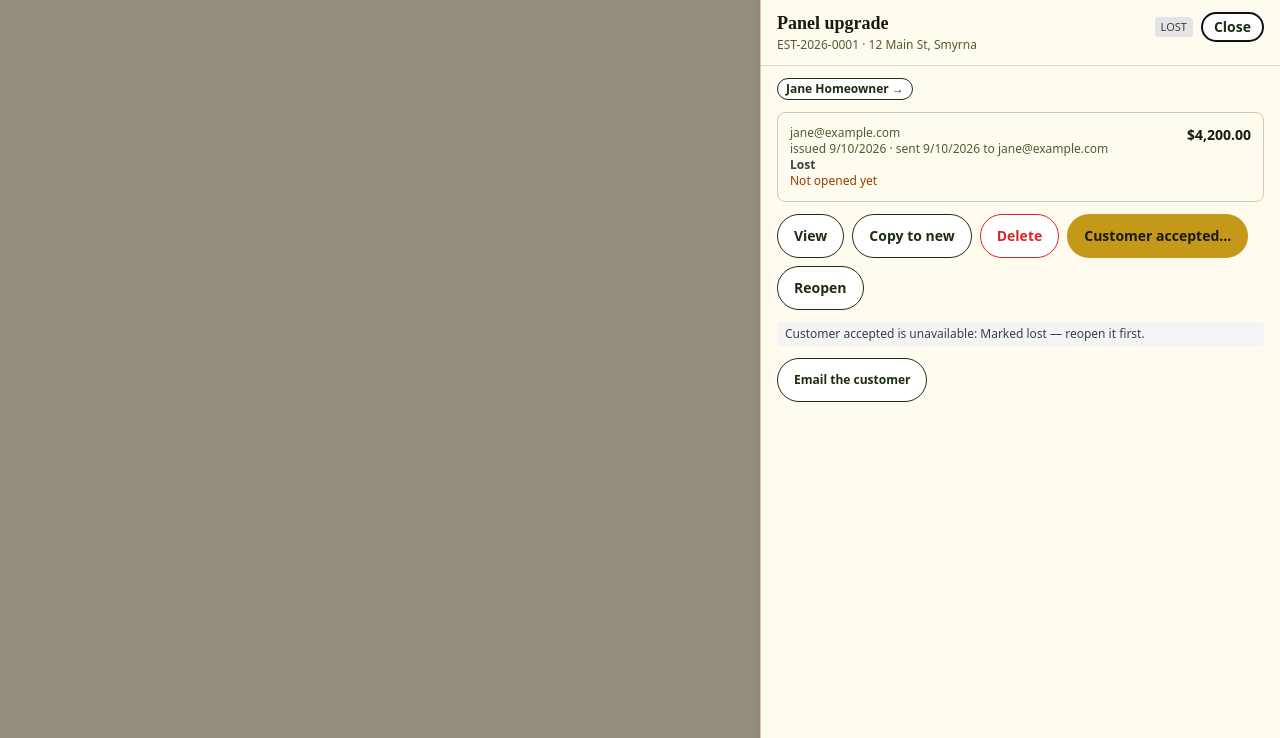
EstimateDrawer — the ONE email control (Estimate · Financing link · Message) › greys with the reason when the estimate is lost - never hidden
Click the button "Email the customer". click: (852, 380)
box: x1=777 y1=358 x2=928 y2=402
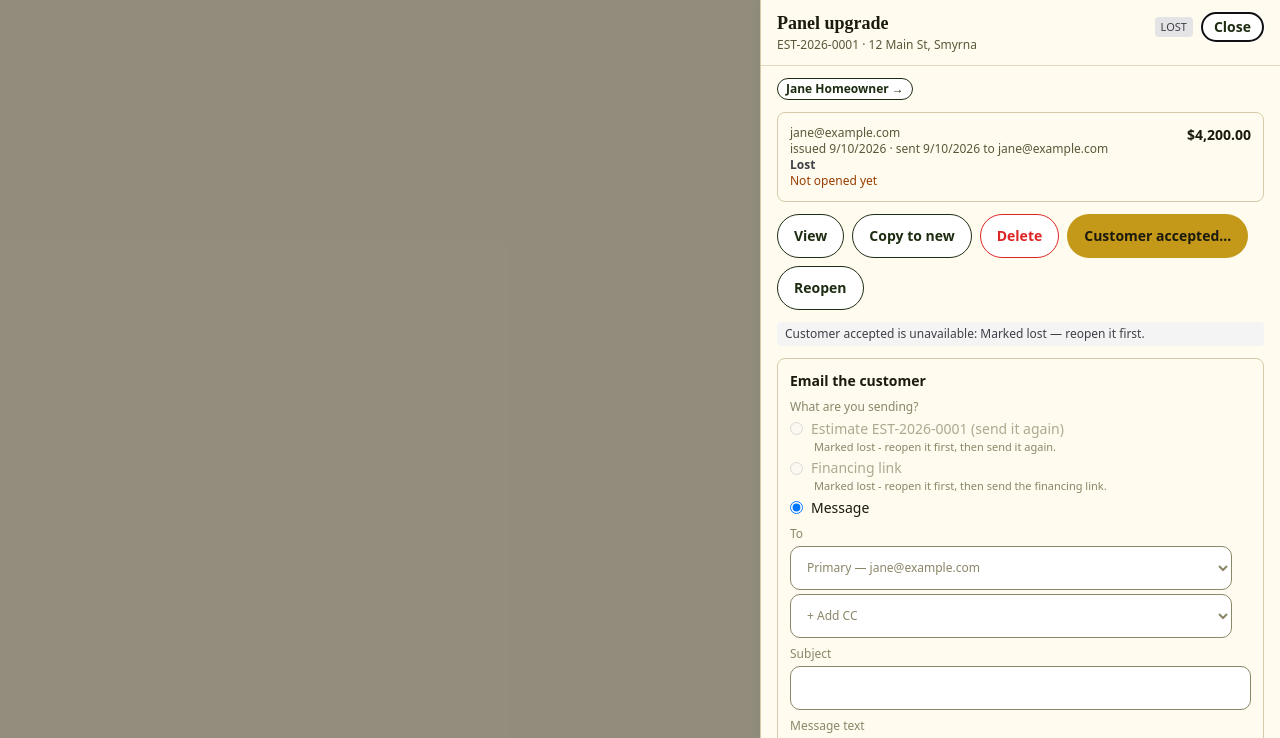
Expected: the radio button labelled "Financing link" is disabled, x1=790 y1=462 x2=803 y2=475
Expected: the radio button labelled "Estimate EST-2026-0001 (send it again)" is disabled, x1=790 y1=422 x2=803 y2=435
Expected: the text "Marked lost - reopen it first, then send the financing link." is shown, x1=814 y1=478 x2=1107 y2=493
